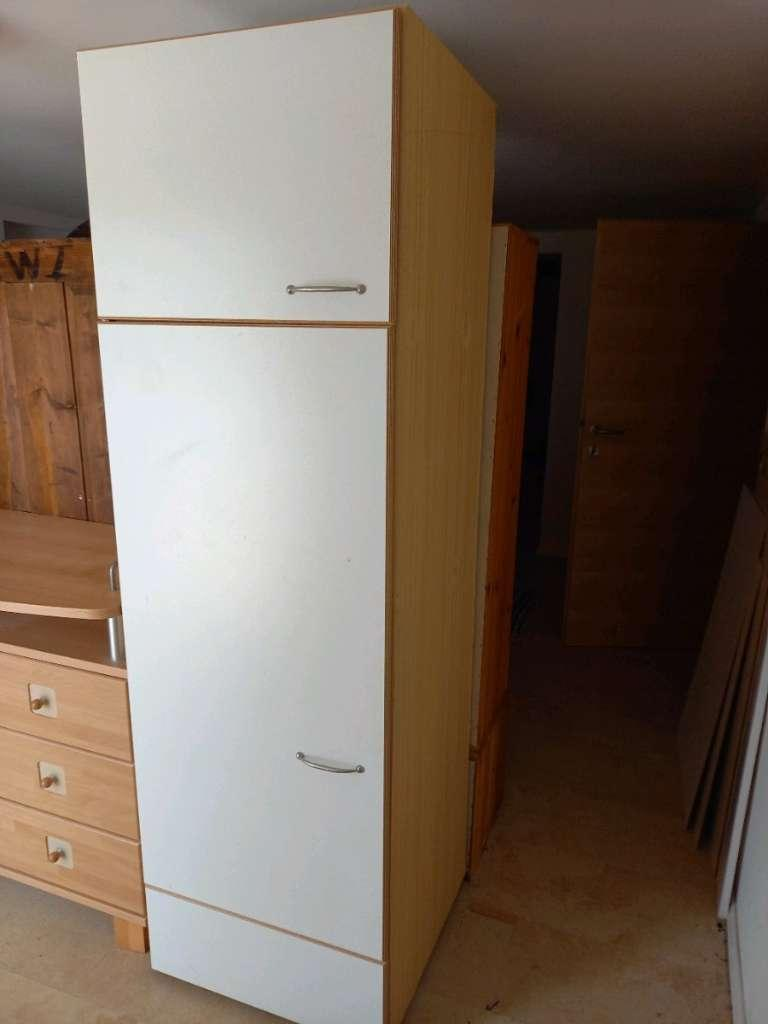cabinet_door: (128, 325, 385, 910), (91, 38, 384, 325), (153, 925, 385, 998), (2, 650, 128, 736), (2, 812, 142, 884), (2, 739, 132, 809)
handle: (282, 269, 374, 306), (291, 744, 371, 782), (25, 682, 58, 718), (34, 758, 65, 796), (40, 833, 71, 870)
